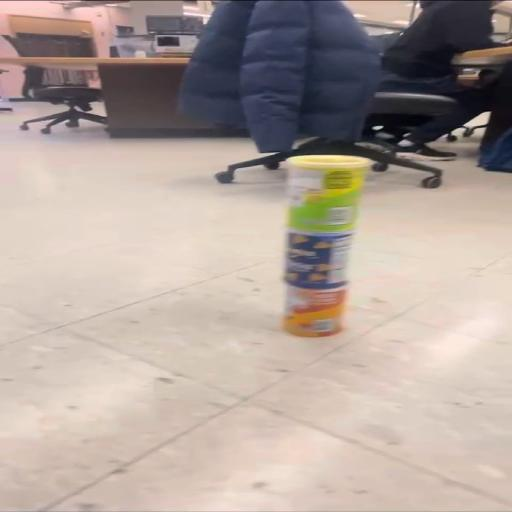pringle can: (287, 155, 370, 232), (285, 231, 353, 289), (283, 285, 346, 337)
